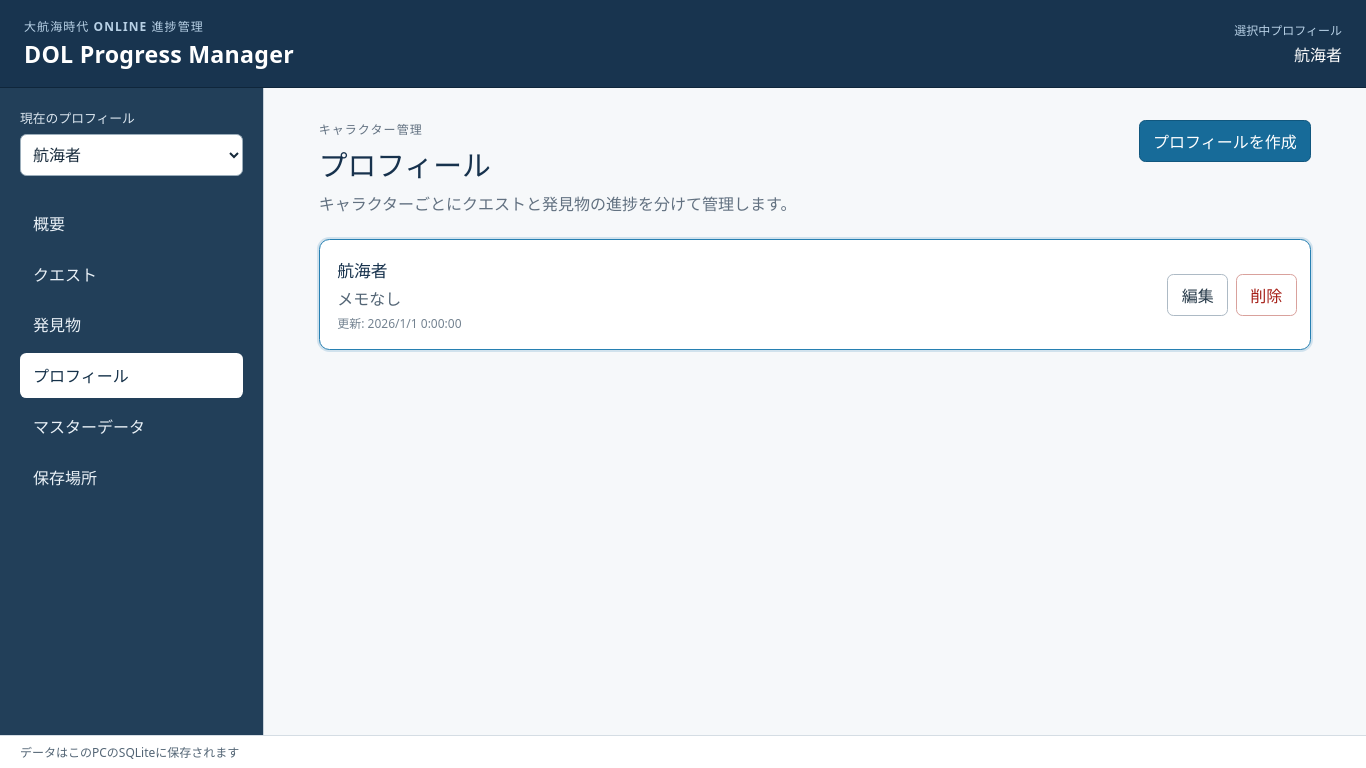
Test: Discovery UI › uses category IDs even when synthetic categories share a display name
Check: the heading "プロフィール" is shown, box [319,145,491,184]
Click the button "概要". click: {"x": 132, "y": 223}
box: [20,200,243,245]
(page scrolled)
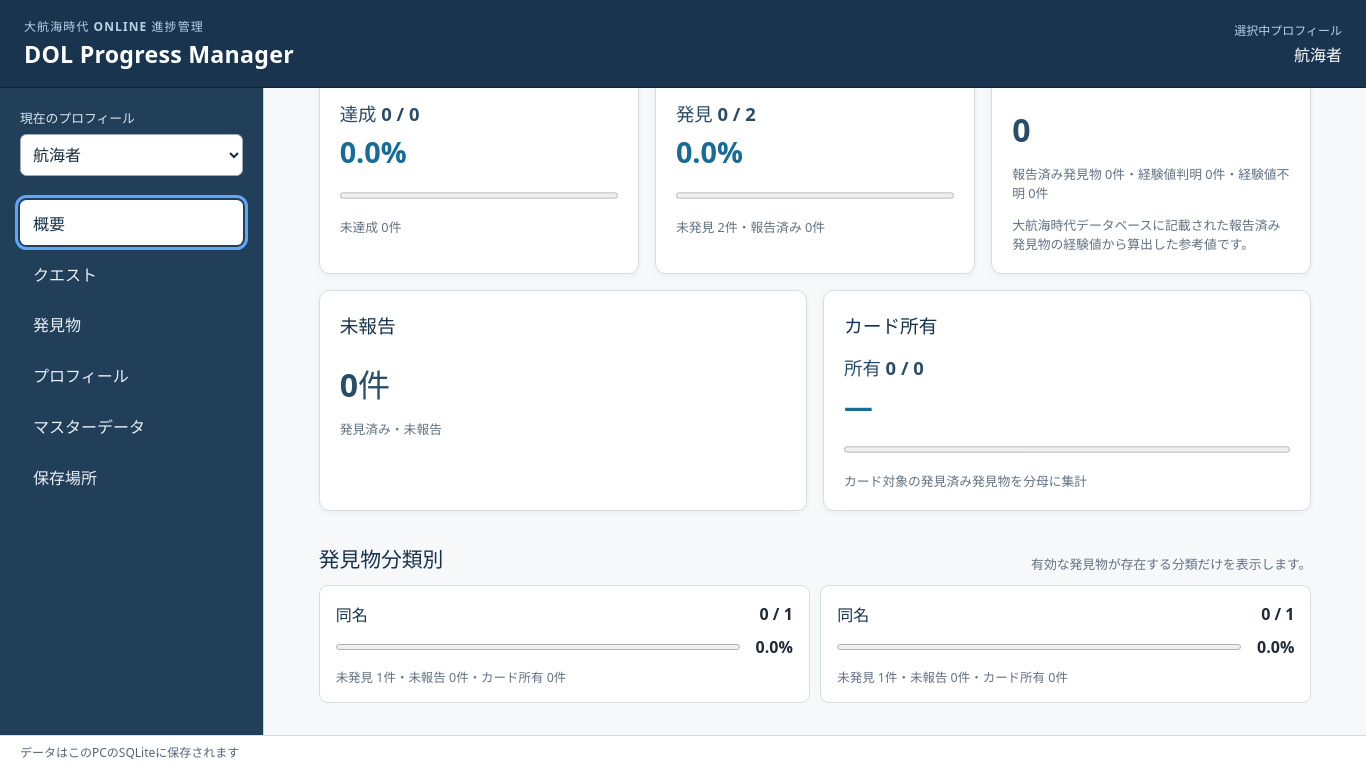
Check: the list is shown, box [319,585,1311,702]
Click the 2nd button named "同名の発見物一覧を開く". click: {"x": 1066, "y": 644}
box: [821,586,1310,702]
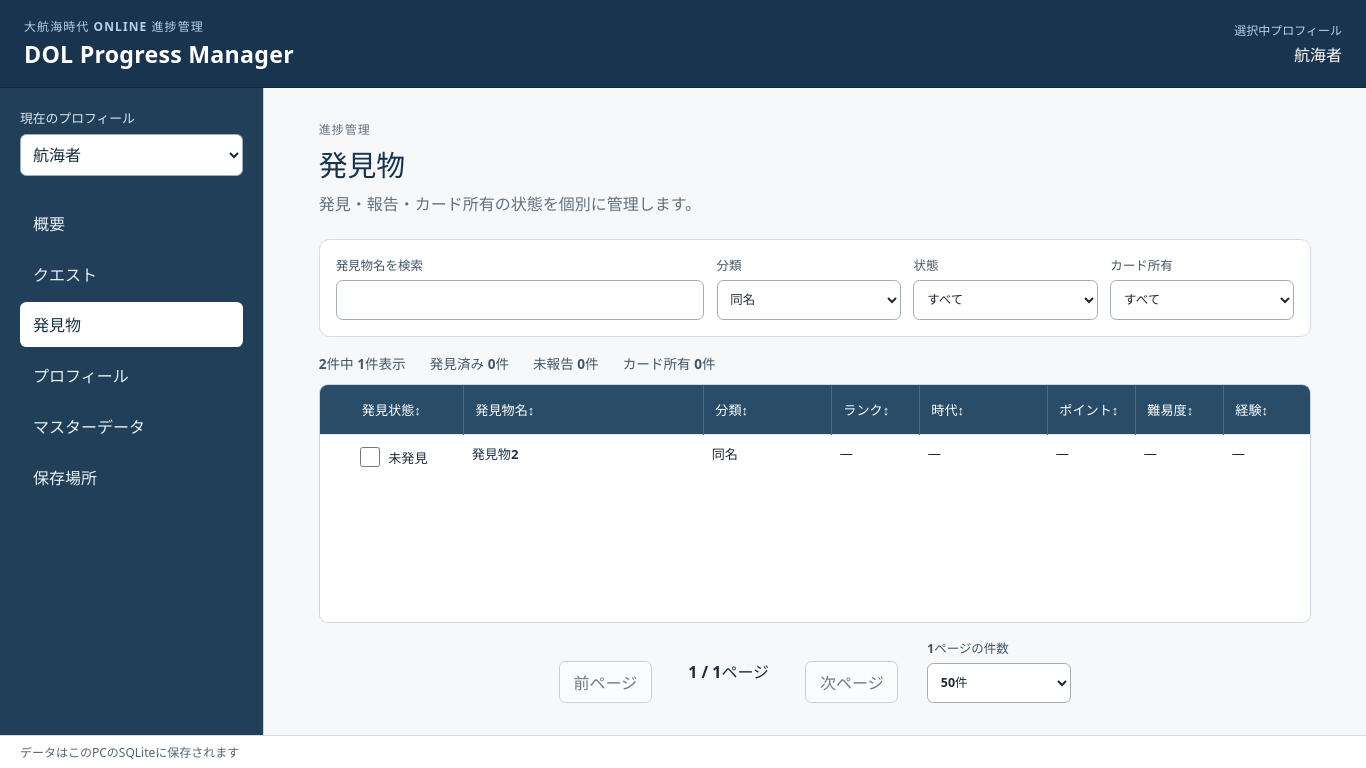
Check: the table is shown, box [320,385,1311,480]
Check: the dropdown labelled "分類" shows "同名", box [717,280,901,320]
Check: the row "未発見 発見物2 同名 — — — — — — — —" is shown, box [320,435,1311,480]
